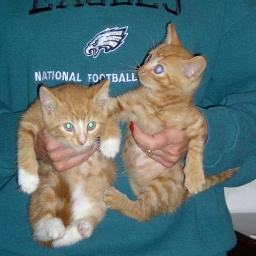cat: (14, 19, 208, 247)
